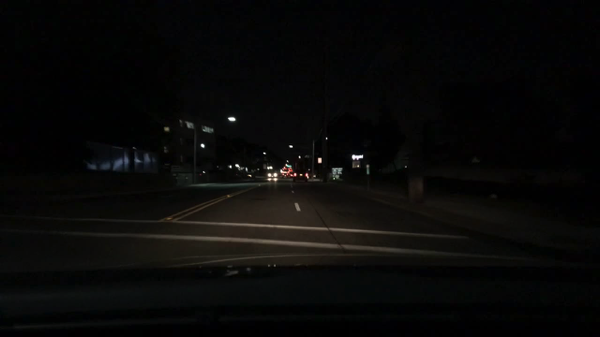car: (290, 167, 310, 183), (237, 169, 256, 179), (265, 170, 278, 178), (288, 171, 293, 177), (281, 173, 287, 177)
traffic light: (287, 164, 290, 168)
traffic sign: (352, 161, 360, 169), (365, 165, 370, 175), (317, 158, 321, 163), (263, 164, 266, 169)
